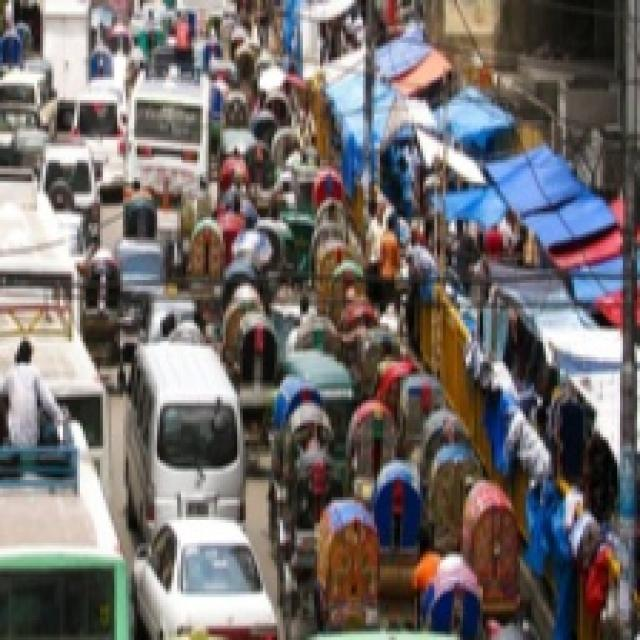car: (131, 334, 247, 515), (135, 515, 280, 639), (69, 86, 124, 184), (41, 148, 100, 222), (2, 68, 56, 133)
rickshaw: (283, 447, 349, 588), (317, 508, 382, 620), (374, 461, 429, 589), (465, 482, 527, 585), (430, 444, 485, 549), (235, 312, 279, 436), (79, 252, 126, 354), (346, 405, 402, 484), (400, 370, 450, 451), (186, 224, 229, 315), (120, 184, 159, 241)
